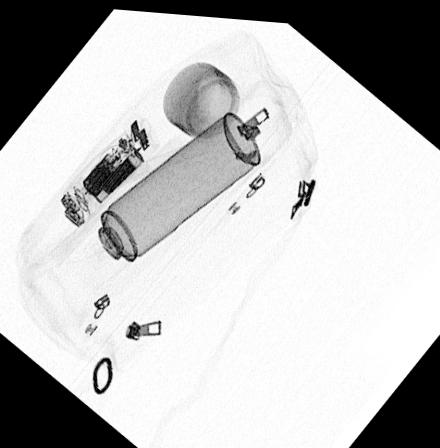Sprayer: (72, 108, 262, 277)
